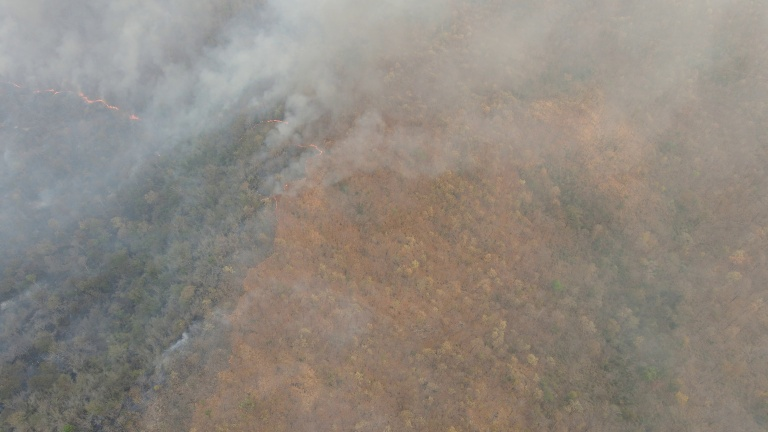fire: (3, 75, 144, 118), (289, 136, 340, 165), (266, 177, 295, 212), (254, 110, 300, 132)
smoke: (9, 1, 390, 163), (157, 325, 201, 390)
